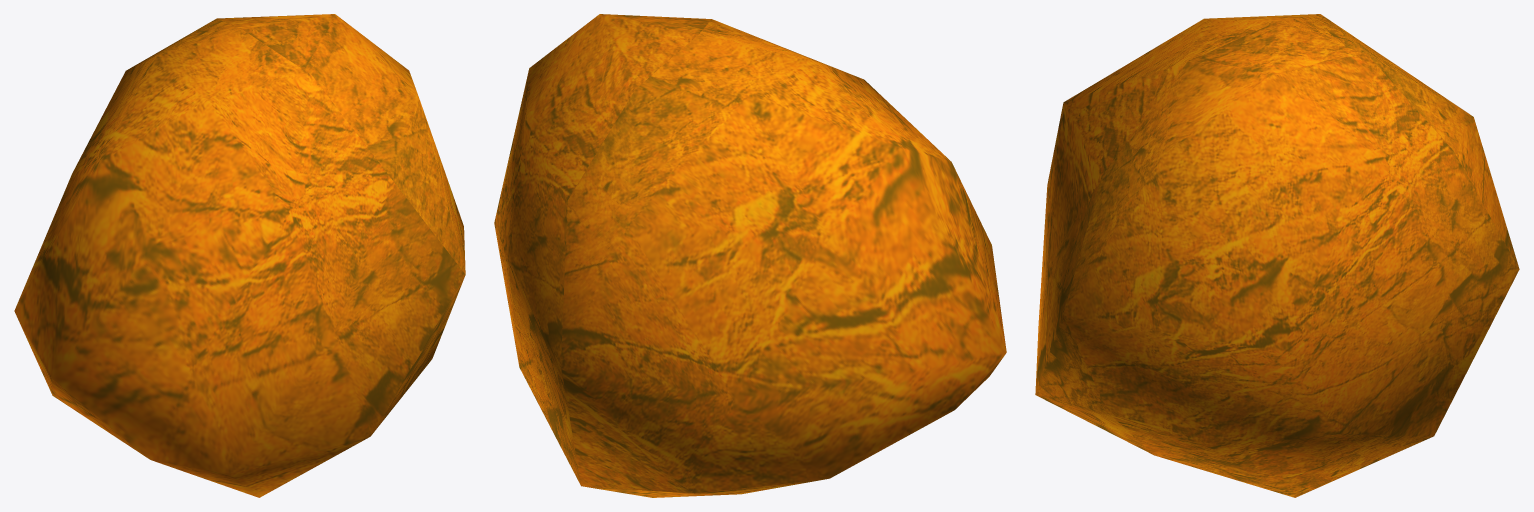
The model's file is Francium.fbx.
3 views of the same model, side by side, from view 1: azimuth 30°, elevation 25°; view 2: azimuth 150°, elevation 25°; view 3: azimuth 270°, elevation 25° (orthographic). The views are drawn at different scales.
Visible parts, largest first — view 1: Icosphere; view 2: Icosphere; view 3: Icosphere.
Boxes of the visible parts, left/top/right/bottom form: Icosphere: left=14, top=14, right=465, bottom=497; Icosphere: left=494, top=14, right=1006, bottom=497; Icosphere: left=1035, top=14, right=1519, bottom=497.
Bounding box in the file's own units: 348 × 335 × 320.
